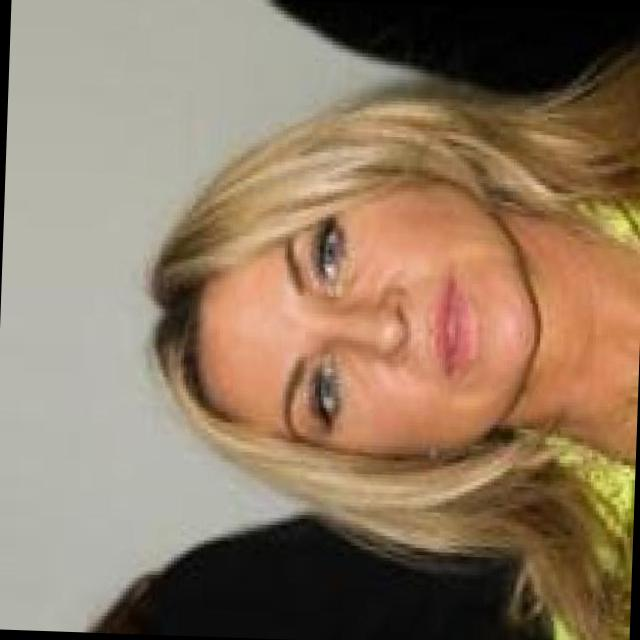bareface: (168, 106, 544, 499)
